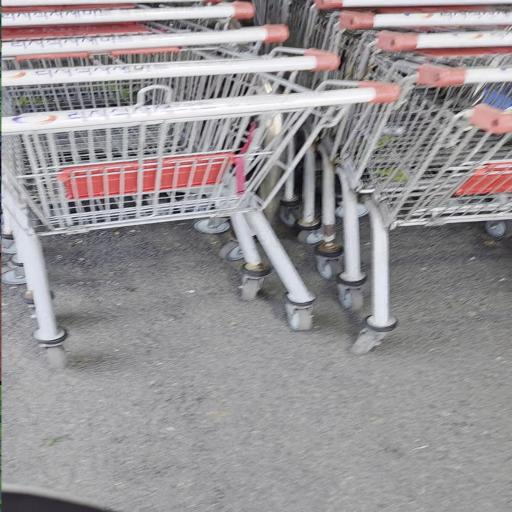combined_cart: (1, 0, 410, 370), (258, 1, 512, 360)
